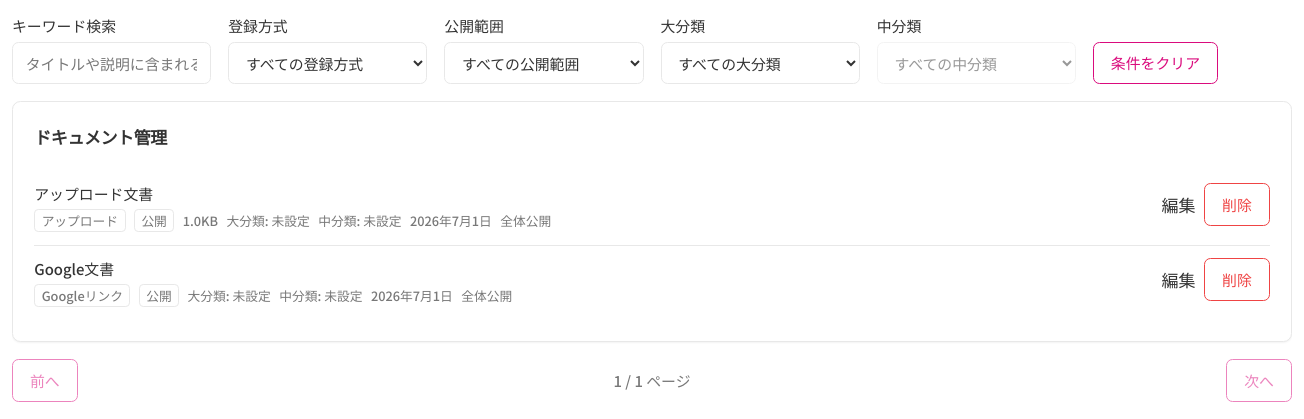
Test: DocumentManagementListClient › 登録方式で絞り込む
The width and height of the screenshot is (1304, 419).
Select "Googleリンク" in the dropdown labelled "登録方式" at (328, 63), box 228,42 -> 427,84
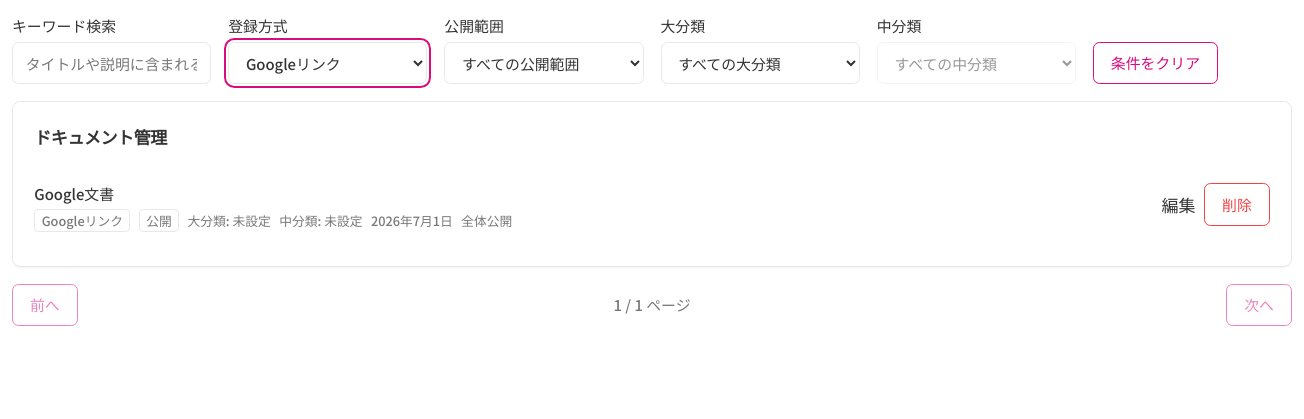
Expected: the text "Google文書" is shown, 34,183 -> 114,204
Expected: the text "アップロード文書" is gone
